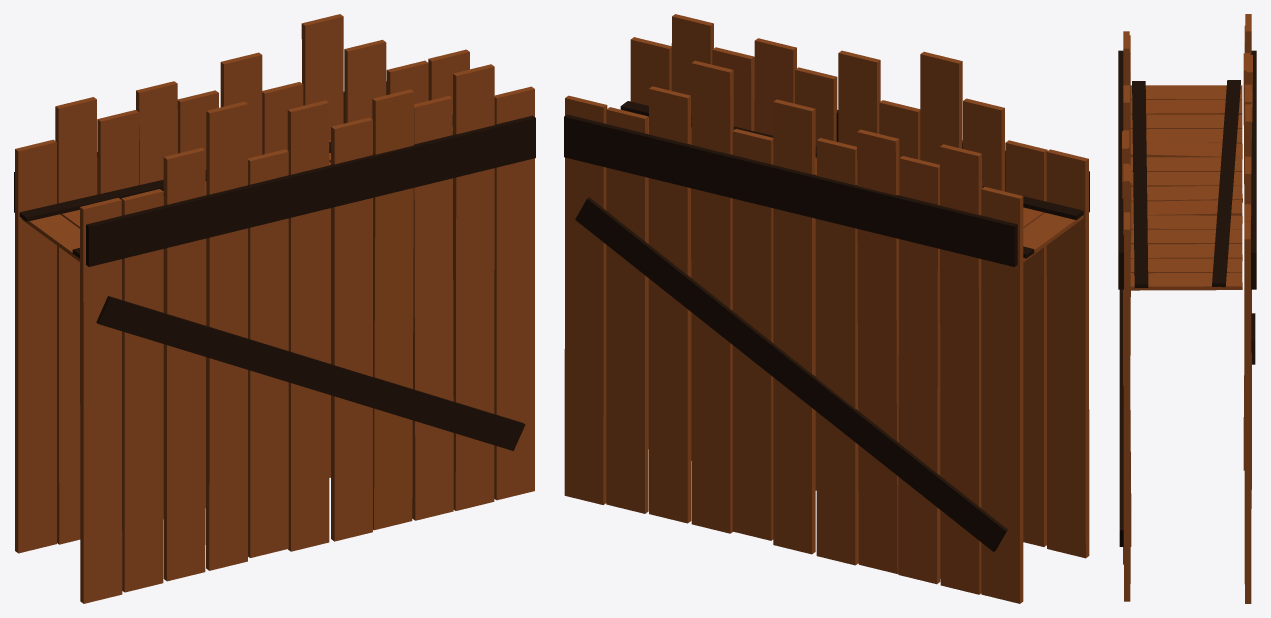
File: wooden_wall_center 1.FBX
3 renders of one model, left to right at view 1: azimuth 30°, elevation 25°; view 2: azimuth 150°, elevation 25°; view 3: azimuth 270°, elevation 25°, orthographic. The views are drawn at different scales.
Visible parts, largest first — view 1: Quader026, Quader015, Quader011, Quader020, Quader022, Quader016, Quader018, Quader021, Quader023, Quader024, Quader019, Quader017 (+14 smaller); view 2: Quader013, Quader002, Quader018, Quader007, Quader009, Quader011, Quader003, Quader008, Quader010, Quader006, Quader012, Quader005 (+14 smaller); view 3: Quader041, Quader042, Quader024, Quader005, Quader027, Quader036, Quader040, Quader030, Quader032, Quader026, Quader028, Quader013 (+23 smaller).
Boxes of the visible parts, x1,y1,x2,y2 form: Quader026: [86, 115, 535, 266]; Quader015: [206, 101, 248, 570]; Quader011: [15, 139, 56, 553]; Quader020: [287, 100, 329, 551]; Quader022: [452, 64, 494, 510]; Quader016: [163, 148, 205, 581]; Quader018: [80, 197, 122, 603]; Quader021: [372, 89, 413, 530]; Quader023: [331, 117, 372, 541]; Quader024: [494, 86, 534, 500]; Quader019: [412, 96, 453, 520]; Quader017: [121, 189, 163, 592]; Quader013: [564, 114, 1017, 266]; Quader002: [691, 60, 733, 533]; Quader018: [1046, 149, 1089, 558]; Quader007: [773, 99, 815, 554]; Quader009: [940, 144, 982, 594]; Quader011: [981, 187, 1023, 603]; Quader003: [649, 86, 691, 523]; Quader008: [857, 129, 899, 573]; Quader010: [816, 138, 858, 565]; Quader006: [898, 156, 940, 584]; Quader012: [575, 197, 1007, 551]; Quader005: [564, 95, 607, 504]; Quader041: [1212, 80, 1240, 287]; Quader042: [1132, 81, 1148, 287]; Quader024: [1124, 212, 1130, 601]; Quader005: [1244, 222, 1251, 603]; Quader027: [1130, 272, 1242, 290]; Quader036: [1130, 140, 1242, 158]; Quader040: [1130, 99, 1242, 114]; Quader030: [1131, 229, 1242, 244]; Quader032: [1131, 199, 1242, 215]; Quader026: [1118, 50, 1123, 289]; Quader028: [1130, 258, 1242, 273]; Quader013: [1251, 50, 1256, 289].
Size of the model in its own units: 1.22 by 0.3498 by 1.19.
